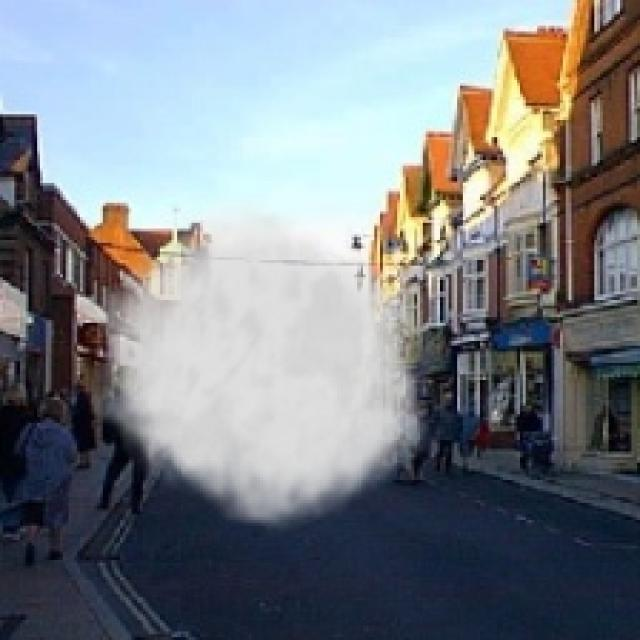smoke: (91, 194, 440, 537)
